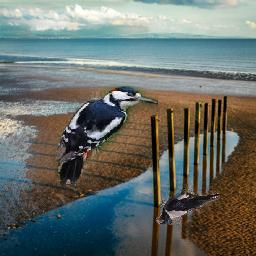Crow: (156, 183, 220, 226)
Woodpecker: (54, 86, 159, 186)
